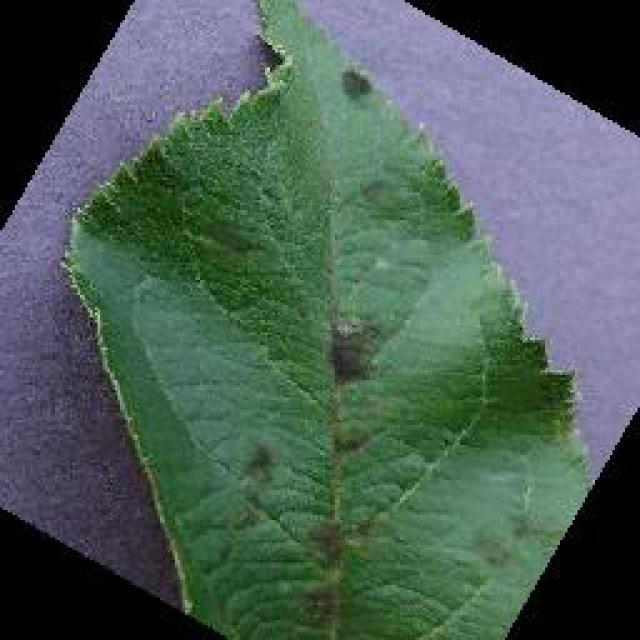apple scab disease: (57, 0, 595, 638)
